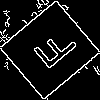F: (25, 25, 80, 78)
